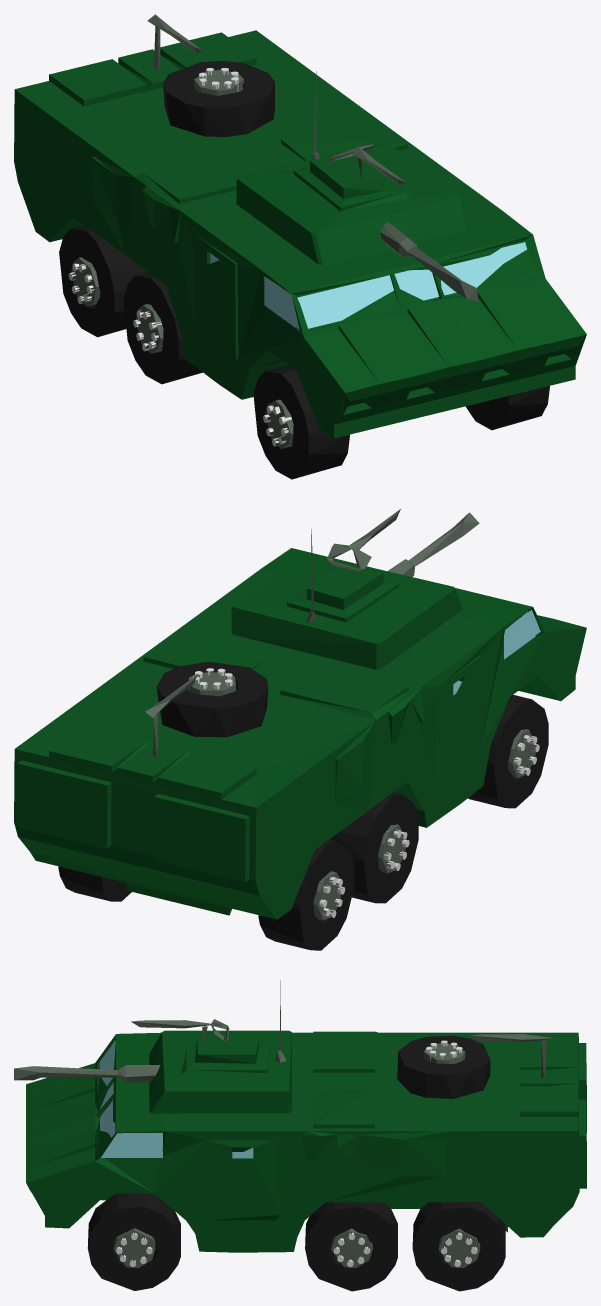
File: cimpletoon.f32c67875649.mech-inf.glb
3 views of the same model, one above another, from view 1: azimuth 30°, elevation 25°; view 2: azimuth 150°, elevation 25°; view 3: azimuth 270°, elevation 25° (orthographic). The views are drawn at different scales.
Visible parts, largest first — view 1: mech-inf.glb; view 2: mech-inf.glb; view 3: mech-inf.glb.
Boxes of the visible parts, x1,y1,x2,y2 form: mech-inf.glb: [14, 14, 586, 479]; mech-inf.glb: [14, 509, 586, 950]; mech-inf.glb: [14, 980, 586, 1291].
Bounding box in the file's own units: 1.24 × 1.47 × 2.88.
Materials: 1 (1 with a texture image).
